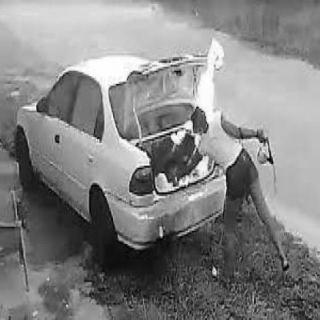Fire: (189, 72, 203, 110), (195, 130, 203, 152)
Smoke: (203, 42, 220, 102)
other: (150, 135, 178, 167), (134, 163, 160, 194)
